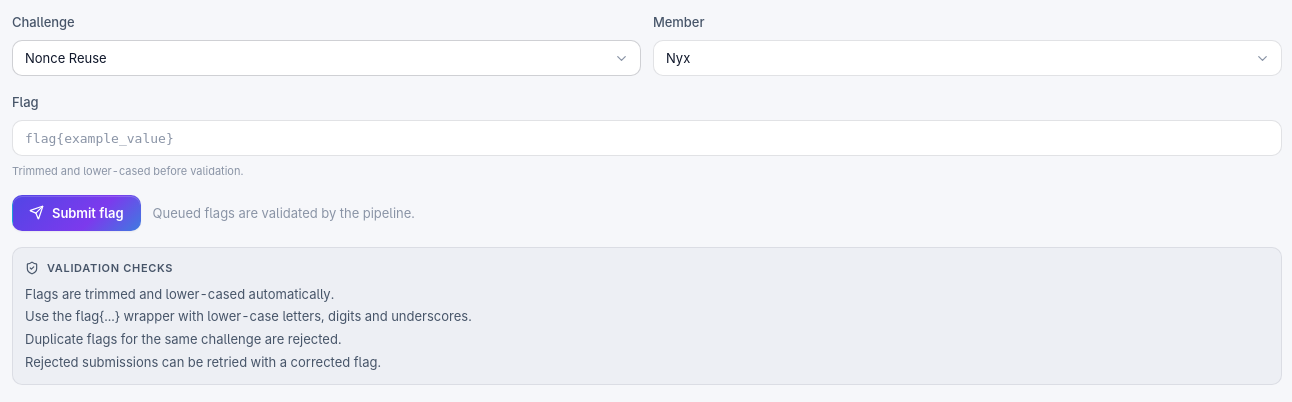
Test: SubmissionForm › switches members when the challenge team changes
Select "Heap House" in the dropdown labelled "Challenge" at point(326, 58), box [12,40,641,76]
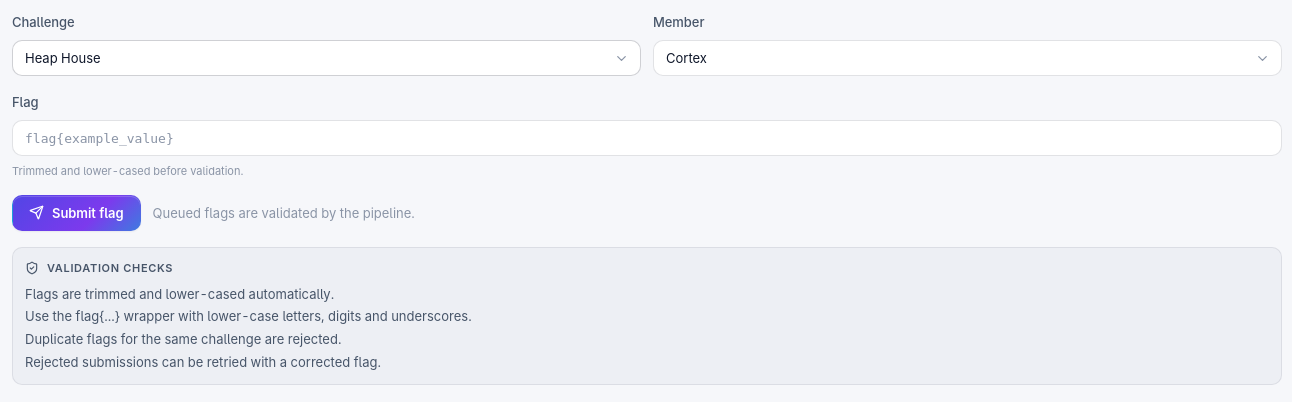
Result: the dropdown labelled "Member" shows "Cortex" at [653,40,1282,76]
